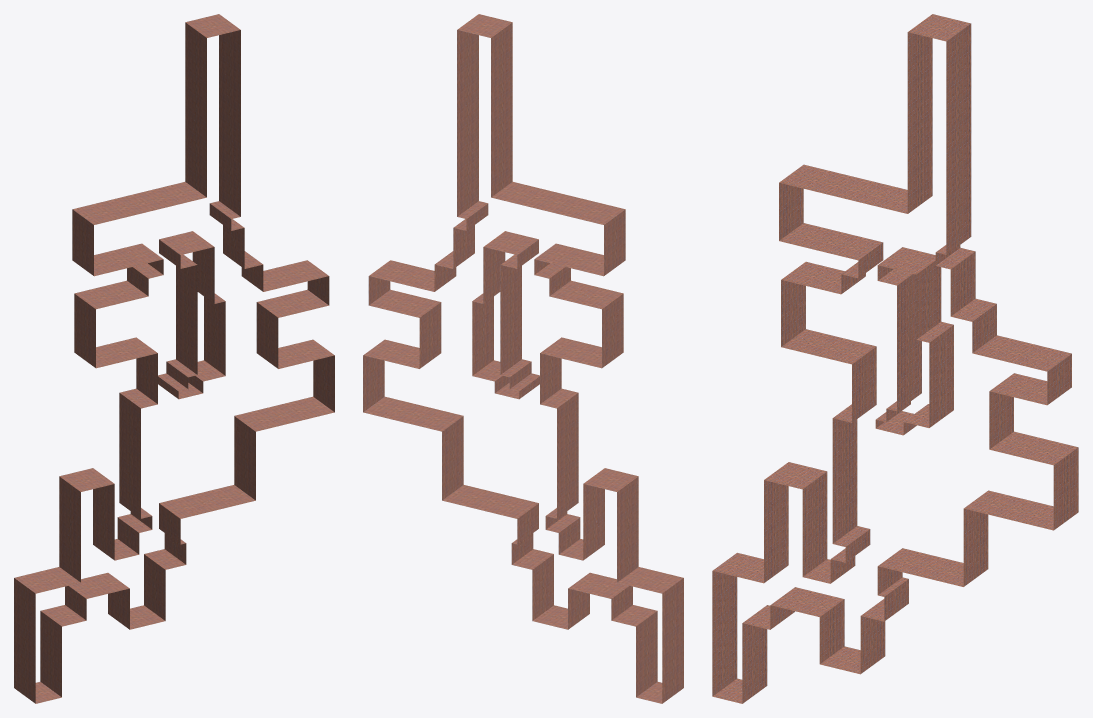
The model's file is output_walls.obj.
The picture shows the model from 3 angles, left to right: view 1: azimuth 30°, elevation 25°; view 2: azimuth 150°, elevation 25°; view 3: azimuth 330°, elevation 25°; orthographic projection. The views are drawn at different scales.
Parts seen in each view (by area): view 1: wall_1, wall_0, wall_34, wall_28, wall_20, wall_8, wall_22, wall_53, wall_56, wall_32, wall_21, wall_12 (+25 smaller); view 2: wall_1, wall_0, wall_34, wall_28, wall_20, wall_8, wall_22, wall_53, wall_56, wall_32, wall_21, wall_12 (+25 smaller); view 3: wall_1, wall_0, wall_20, wall_28, wall_34, wall_8, wall_22, wall_23, wall_12, wall_37, wall_53, wall_44 (+25 smaller).
Part boxes in pixels (x1,y1,x2,y2): wall_1: (219,30,240,216); wall_0: (185,22,206,197); wall_34: (72,182,206,224); wall_28: (14,578,35,703); wall_20: (119,393,140,518); wall_8: (176,265,197,374); wall_22: (59,476,80,582); wall_53: (234,396,334,431); wall_56: (159,485,255,518); wall_32: (40,611,61,696); wall_21: (234,416,255,500); wall_12: (204,296,225,375); wall_1: (457,30,478,216); wall_0: (491,22,512,197); wall_34: (491,182,625,224); wall_28: (662,578,683,703); wall_20: (557,393,578,518); wall_8: (500,265,521,374); wall_22: (617,476,638,582); wall_53: (363,396,463,431); wall_56: (442,485,538,518); wall_32: (636,611,657,696); wall_21: (442,416,463,500); wall_12: (472,296,493,375); wall_1: (946,23,971,254); wall_0: (907,32,932,213); wall_20: (832,418,857,543); wall_28: (712,571,737,696); wall_34: (779,164,907,213); wall_8: (897,274,921,410); wall_22: (764,480,788,582); wall_23: (802,472,827,576); wall_12: (929,325,953,427); wall_37: (779,223,882,260); wall_53: (964,490,1053,530); wall_44: (972,335,1071,371).
Size of the model in its own units: 0.3058 by 0.6096 by 0.0385.
